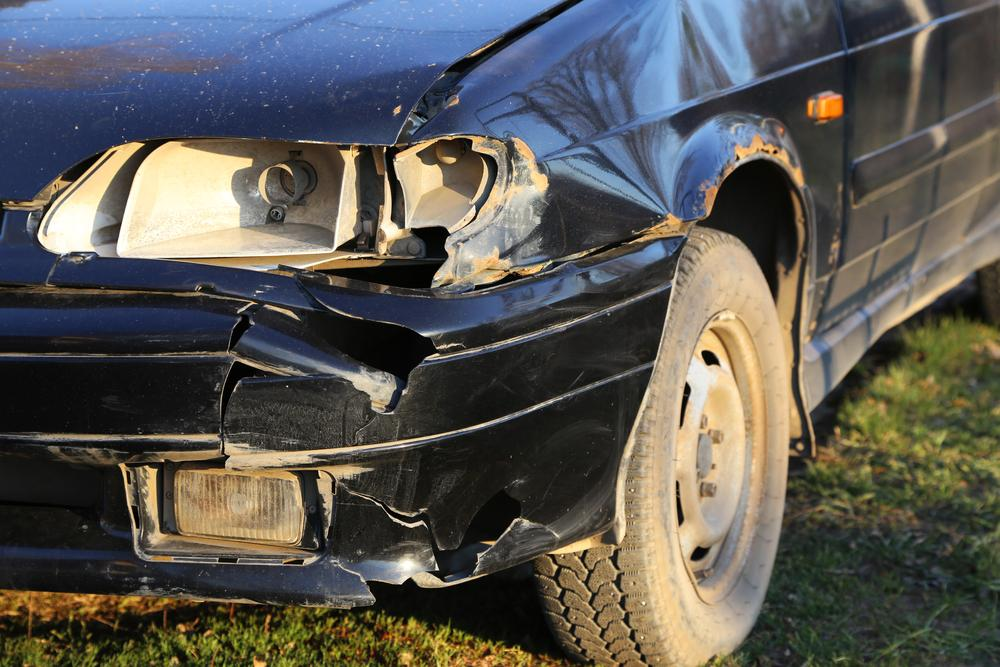crack: (294, 277, 469, 448), (339, 481, 561, 584), (220, 303, 290, 456), (336, 558, 399, 602)
dent: (549, 16, 761, 213)
lamp broken: (39, 137, 499, 274)
